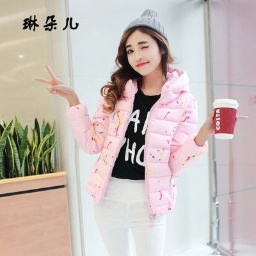face: (115, 22, 175, 83)
